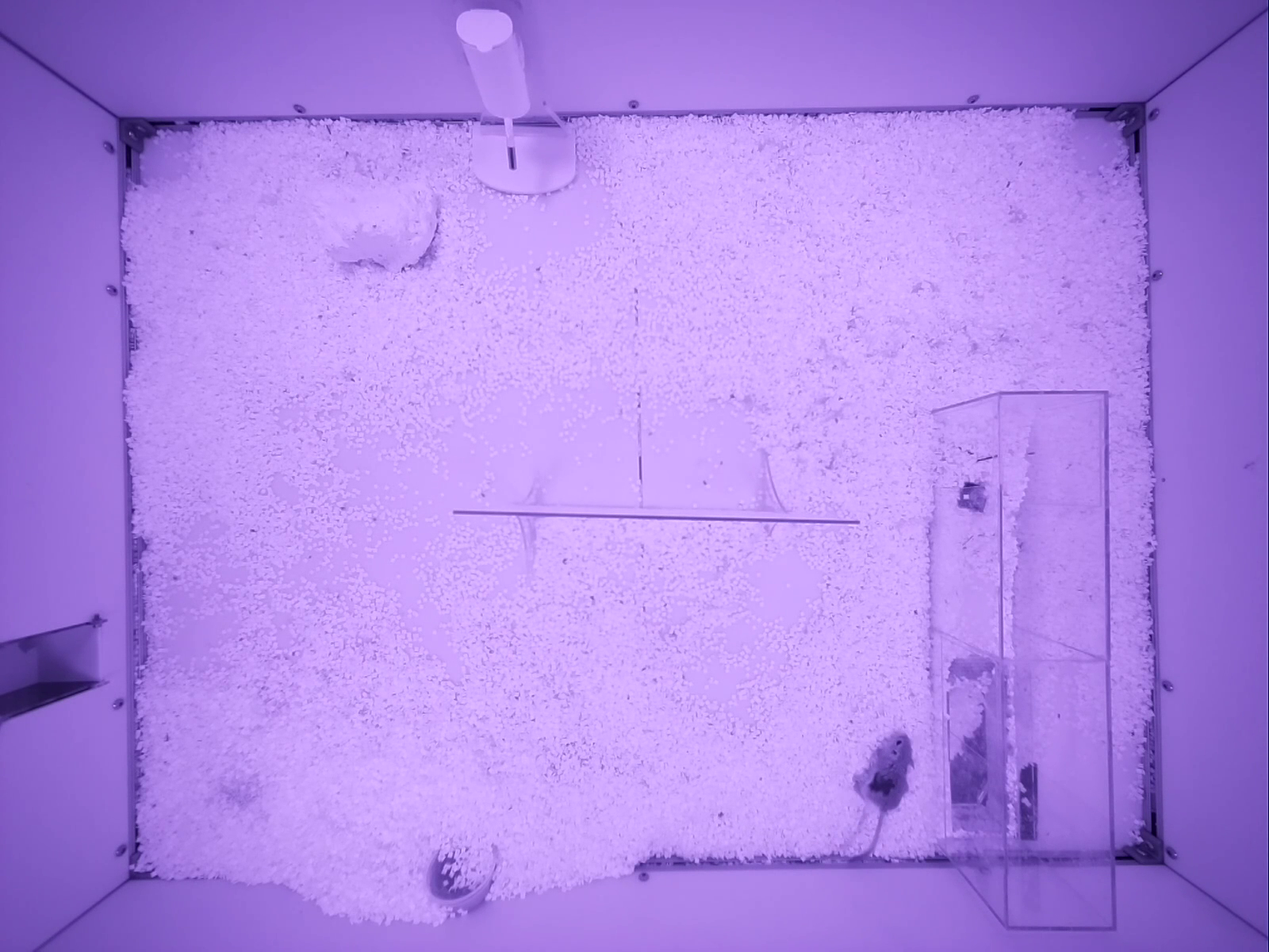adult_back: (850, 731, 911, 858)
